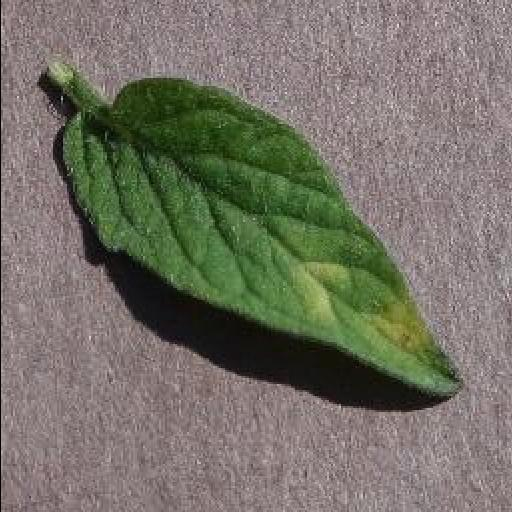disease_tomato: (60, 78, 462, 402)
